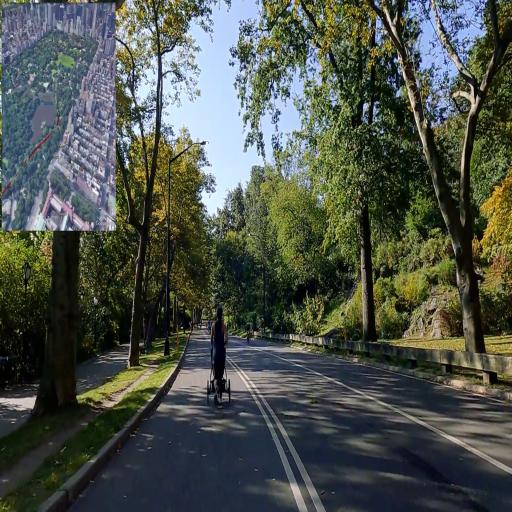Street_Light: (162, 138, 212, 363), (246, 229, 268, 330)
